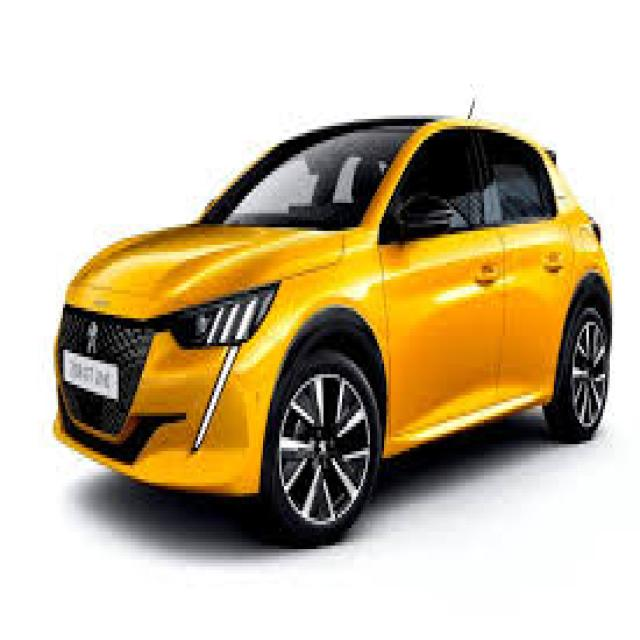Cars: (71, 85, 611, 536)
